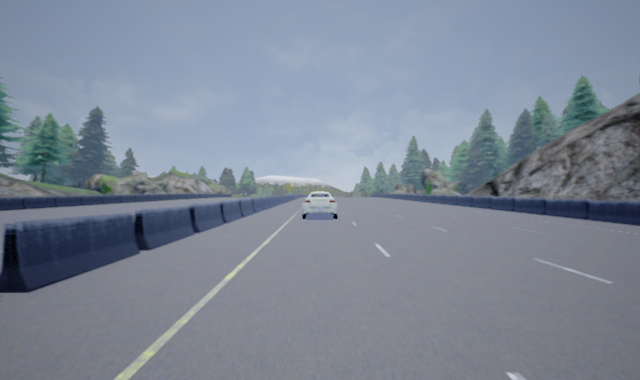vehicle: (301, 191, 338, 220)
